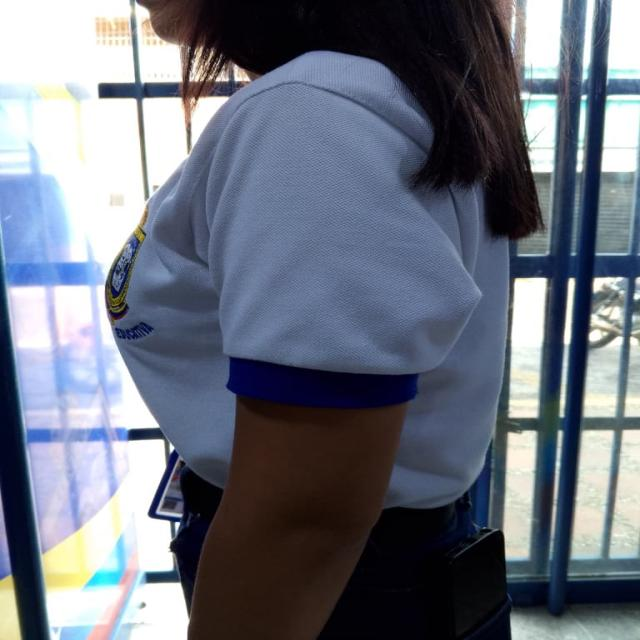carnet: (157, 454, 211, 517)
uniforme_superior: (102, 48, 514, 510)
